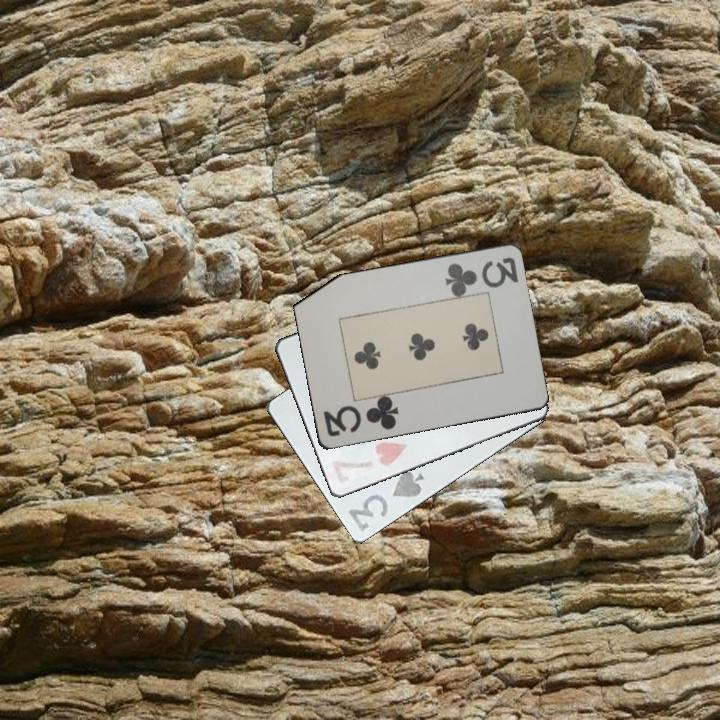3c: (318, 394, 401, 440), (441, 254, 521, 297)
3s: (345, 467, 427, 535)
7h: (328, 438, 410, 487)
